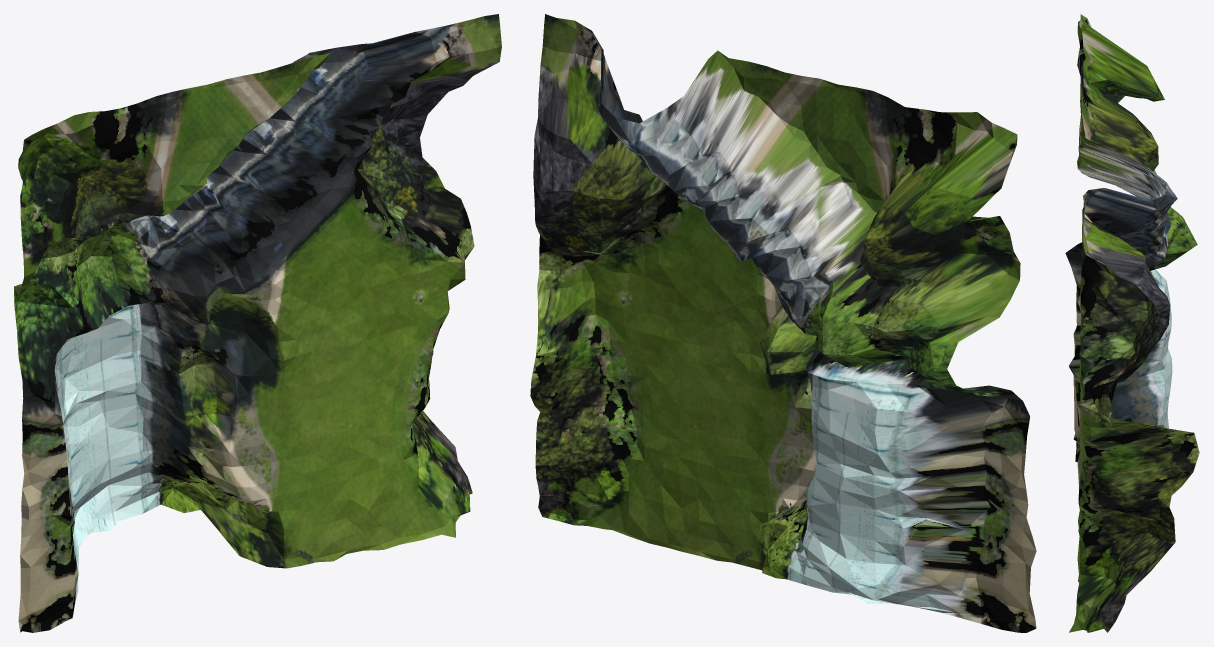
File: refine_rgb.obj
The picture shows the model from 3 angles, left to right: view 1: azimuth 30°, elevation 25°; view 2: azimuth 150°, elevation 25°; view 3: azimuth 270°, elevation 25°; orthographic projection. The views are drawn at different scales.
Size of the model in its own units: 74.37 by 74.54 by 20.2.
Materials: 1 (1 with a texture image).
